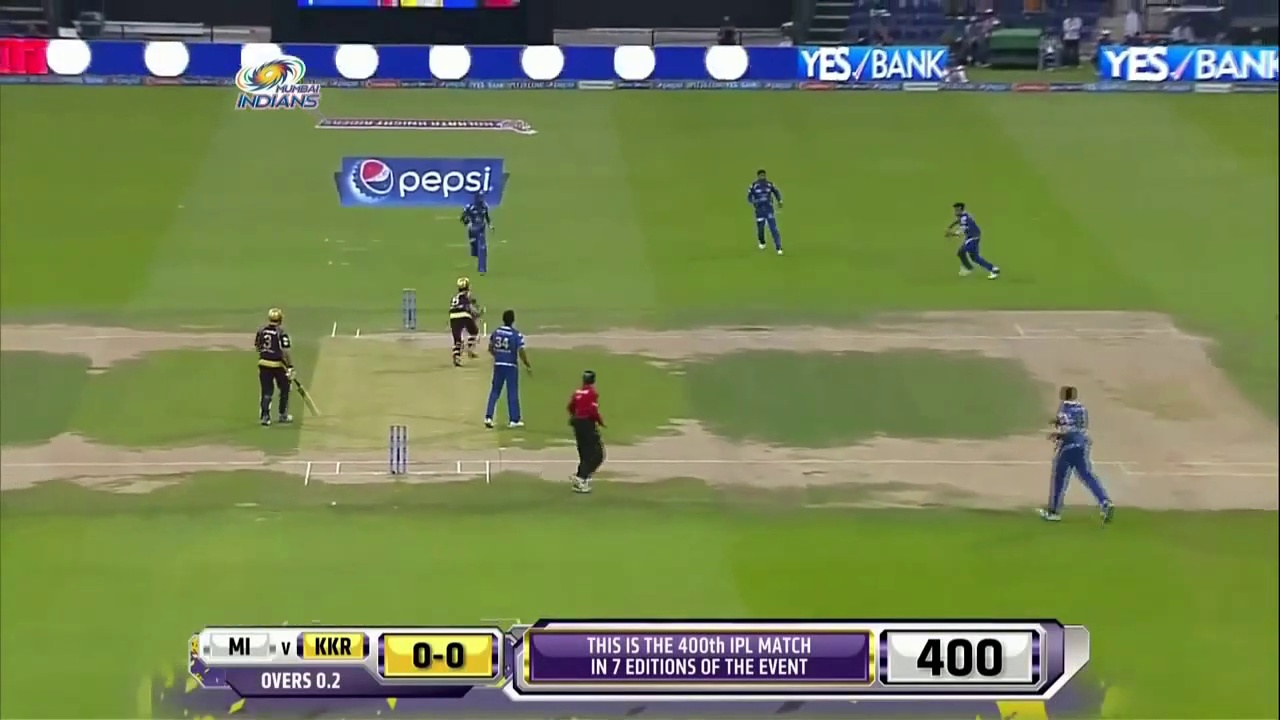bat: (296, 378, 321, 417)
stumps: (389, 423, 407, 476)
